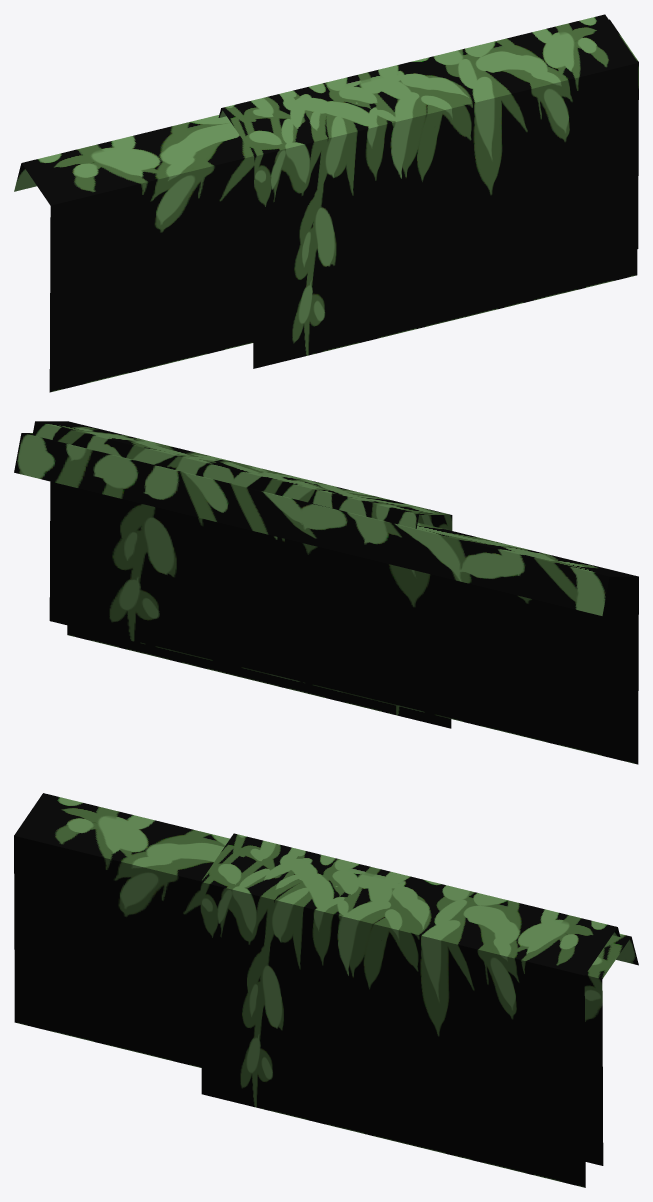
File: vine 4.fbx
3 renders of one model, top to bottom at view 1: azimuth 30°, elevation 25°; view 2: azimuth 150°, elevation 25°; view 3: azimuth 330°, elevation 25°, orthographic.
Parts seen in each view (by area): view 1: Plane.030, Plane.032; view 2: Plane.032, Plane.030; view 3: Plane.030, Plane.032.
Boxes of the visible parts, x1,y1,x2,y2 form: Plane.030: [218, 14, 638, 368]; Plane.032: [14, 19, 638, 392]; Plane.032: [14, 433, 638, 764]; Plane.030: [32, 421, 452, 728]; Plane.030: [200, 833, 626, 1187]; Plane.032: [14, 793, 638, 1165].
Bounding box in the file's own units: 306 × 118 × 40.64.
Materials: 1 (1 with a texture image).
